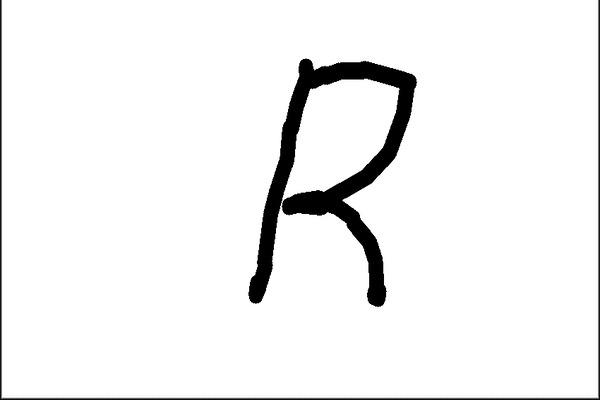R: (243, 49, 402, 321)
